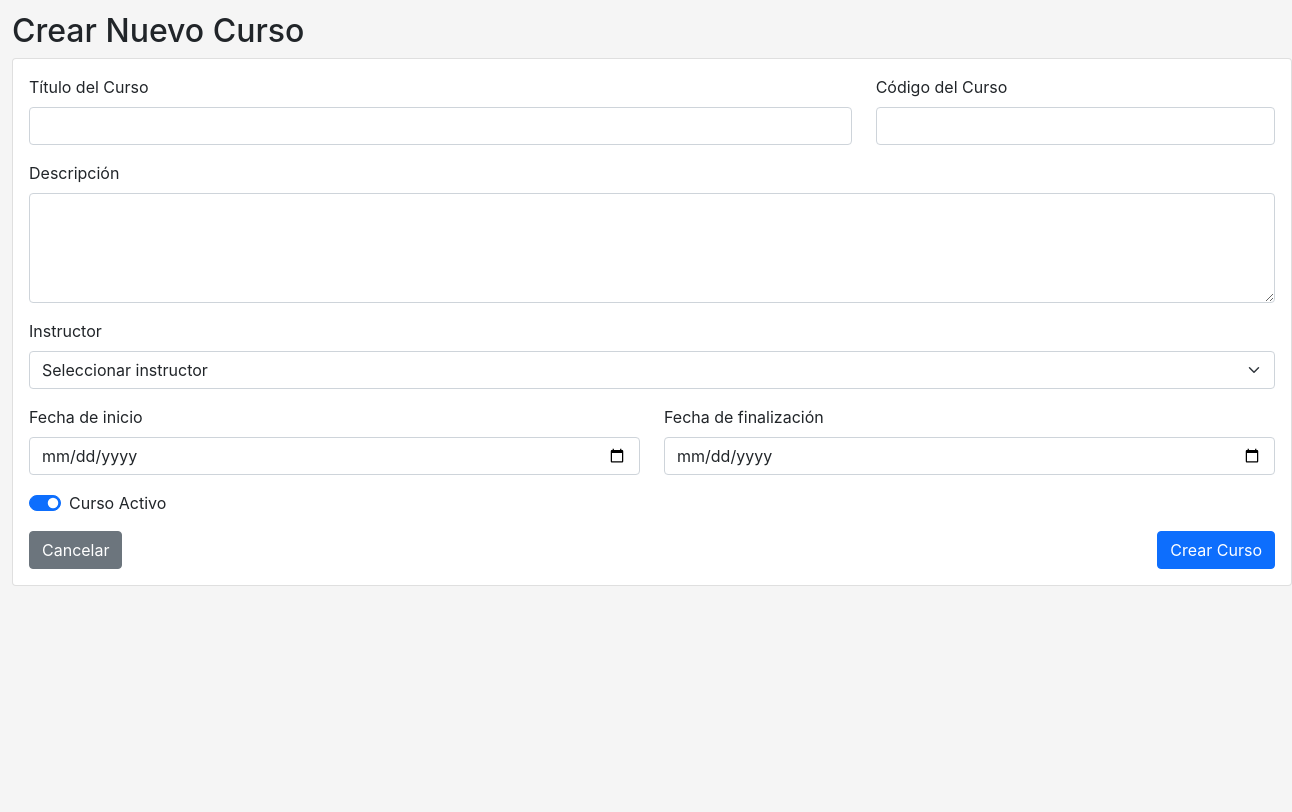
Test: CourseForm Component › handles date validation correctly
// Fill in required fields first using getByRole
Type "Curso de Prueba" into the field labelled "Título del Curso" at (440, 126), box top-left (29, 107), bottom-right (852, 145)
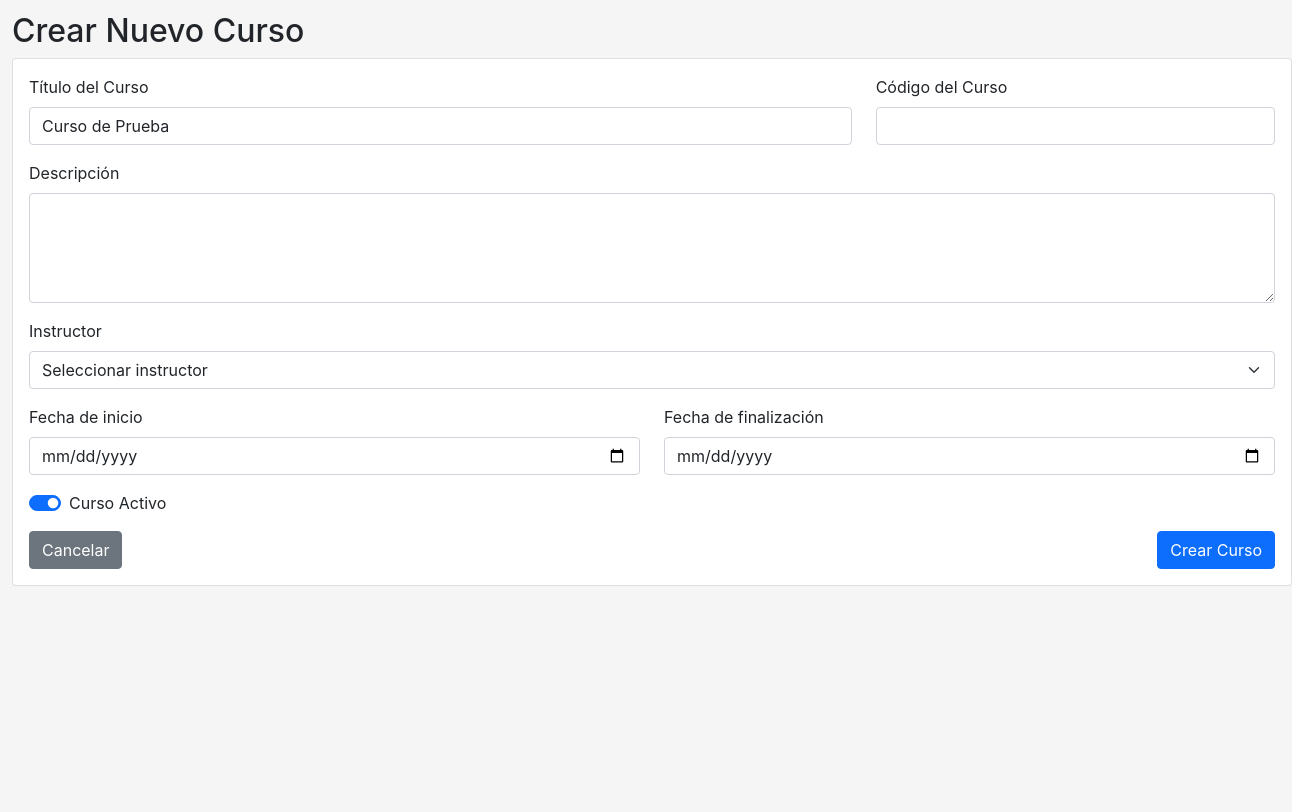
Type "TEST101" into the field labelled "Código del Curso" at (1075, 126), box top-left (876, 107), bottom-right (1275, 145)
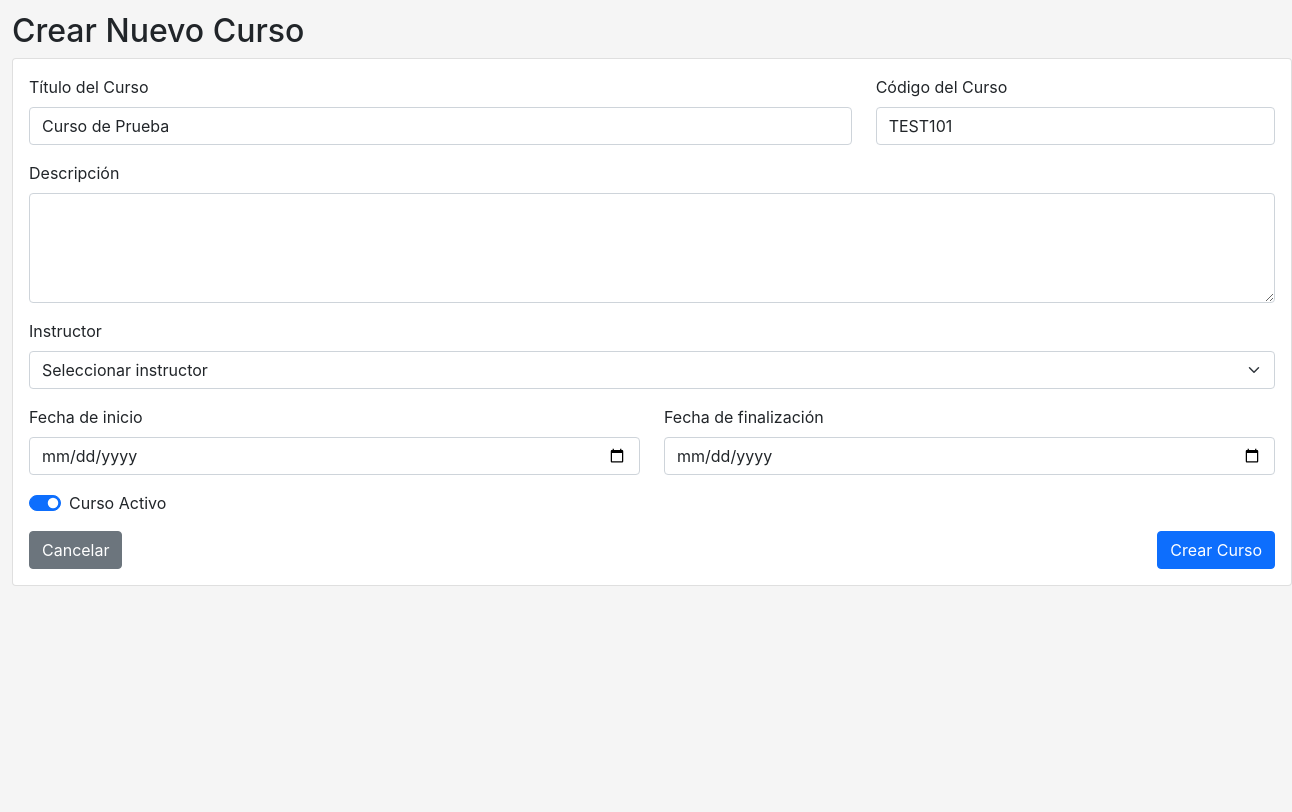
Type "2023-12-01" into the date field labelled "Fecha de inicio" at (334, 456), box top-left (29, 437), bottom-right (640, 475)
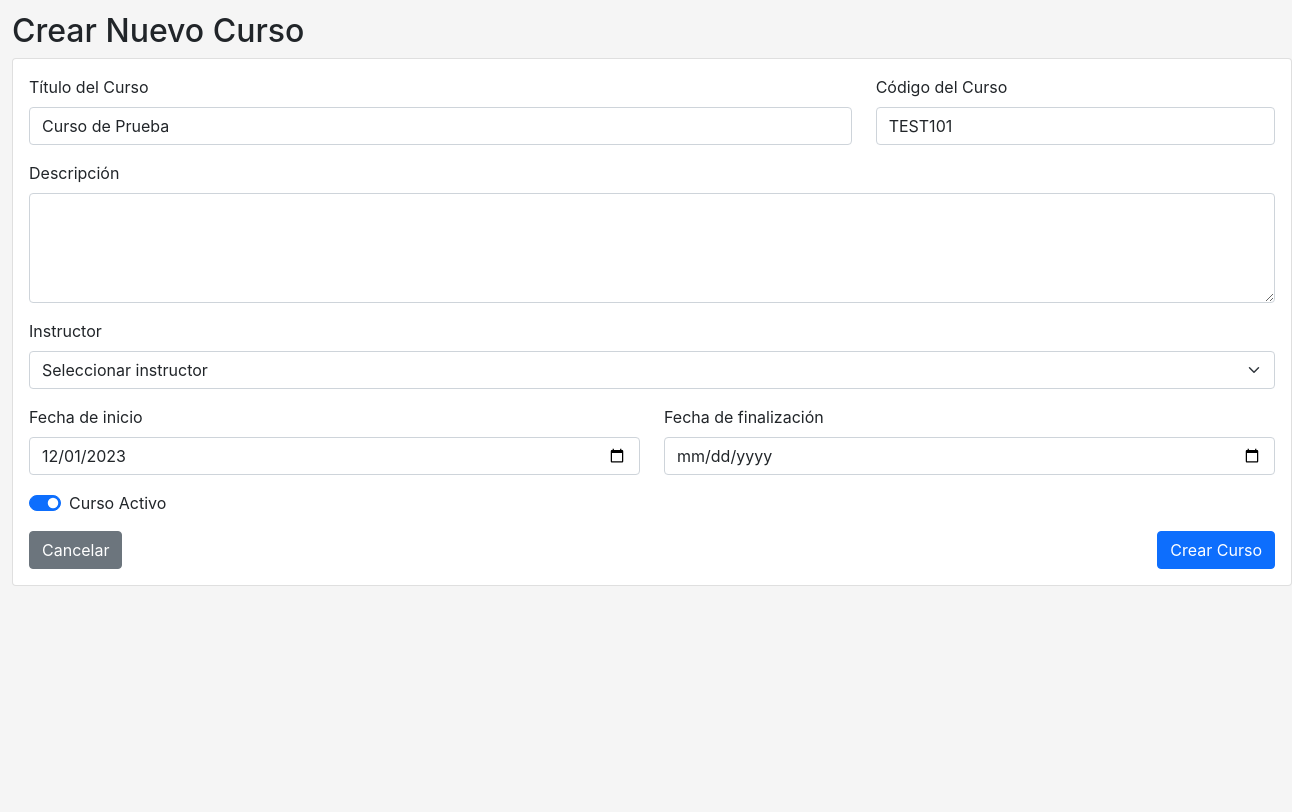
Type "2023-11-01" into the date field labelled "Fecha de finalización" at (970, 456), box top-left (664, 437), bottom-right (1275, 475)
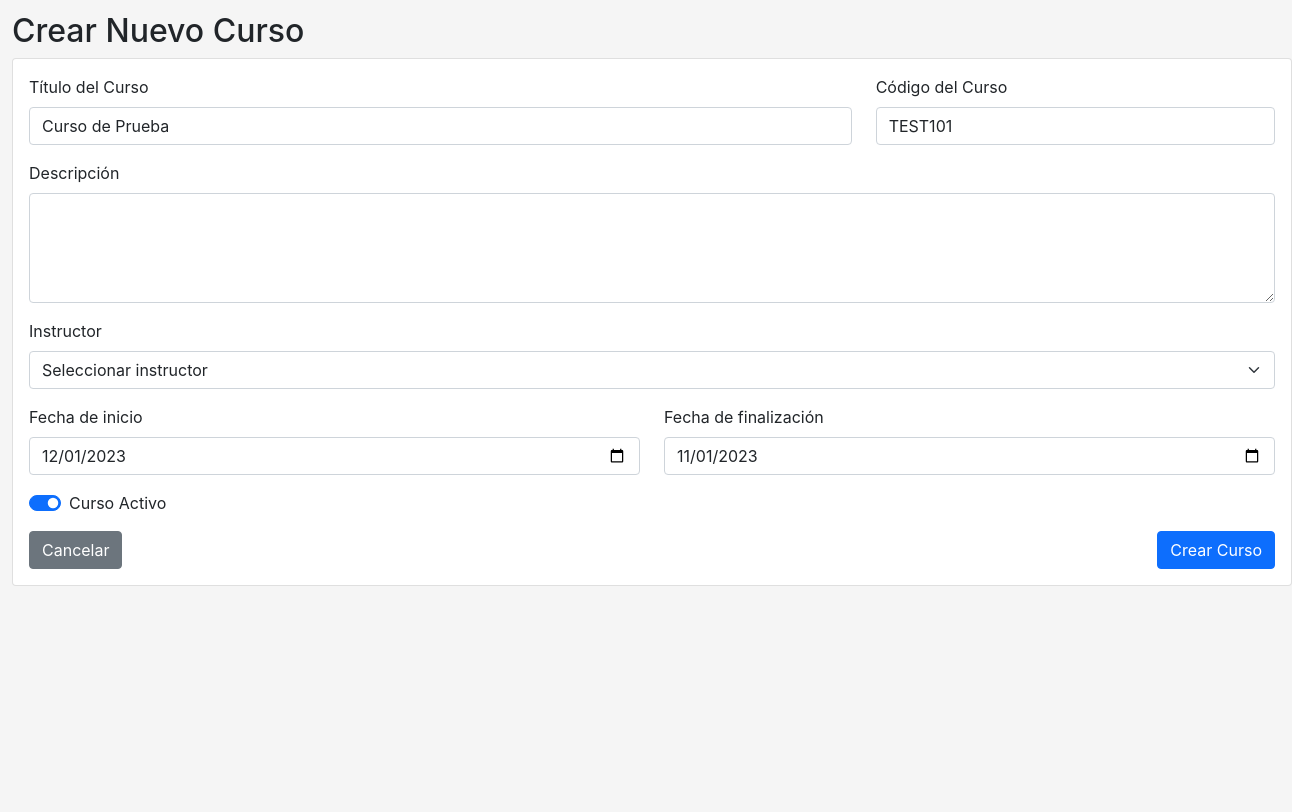
// Submit form
Click the button "Crear Curso" at (1216, 550), box top-left (1157, 531), bottom-right (1275, 569)
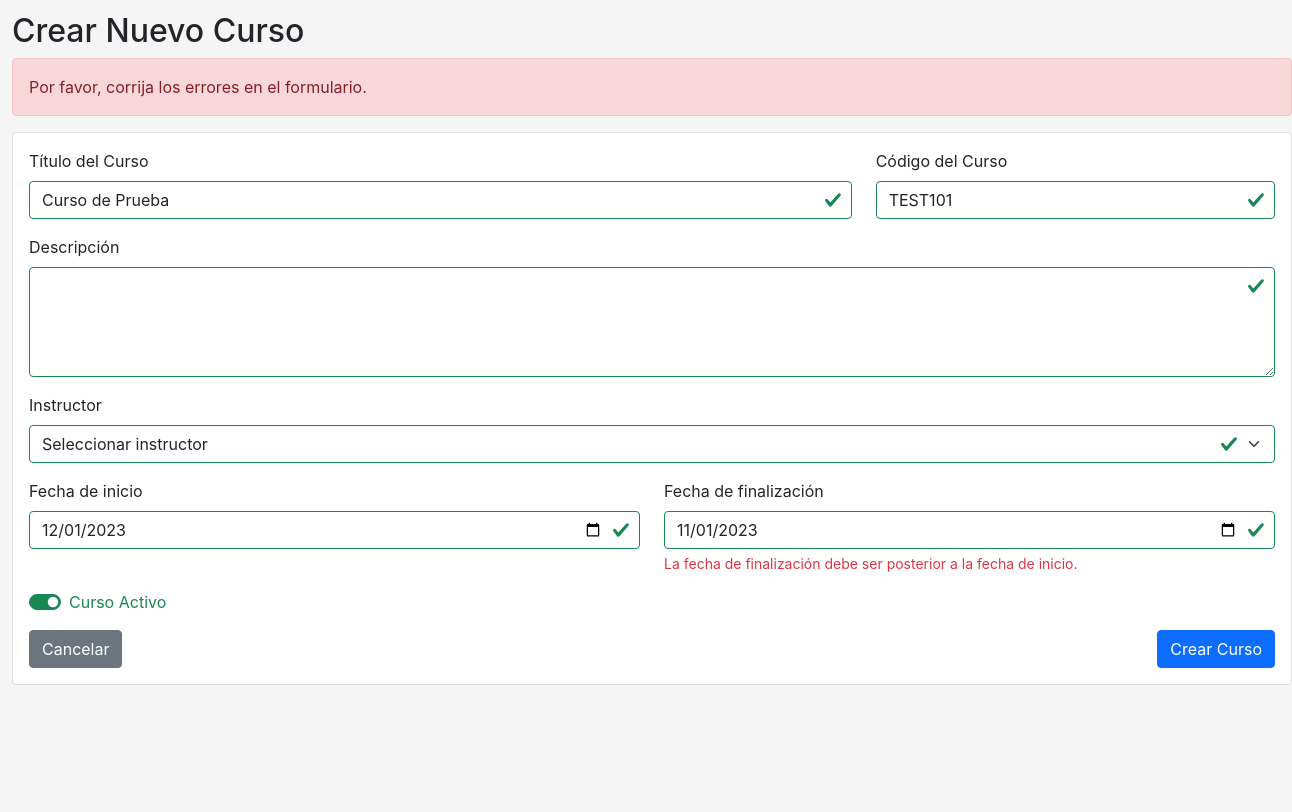
Result: the text "Por favor, corrija los errores en el formulario." is shown at top-left (12, 58), bottom-right (1291, 116)
